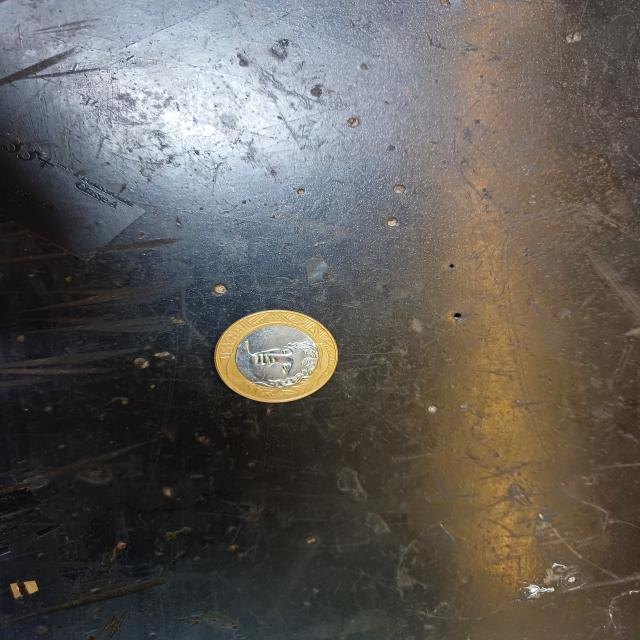1 real: (218, 308, 344, 403)
